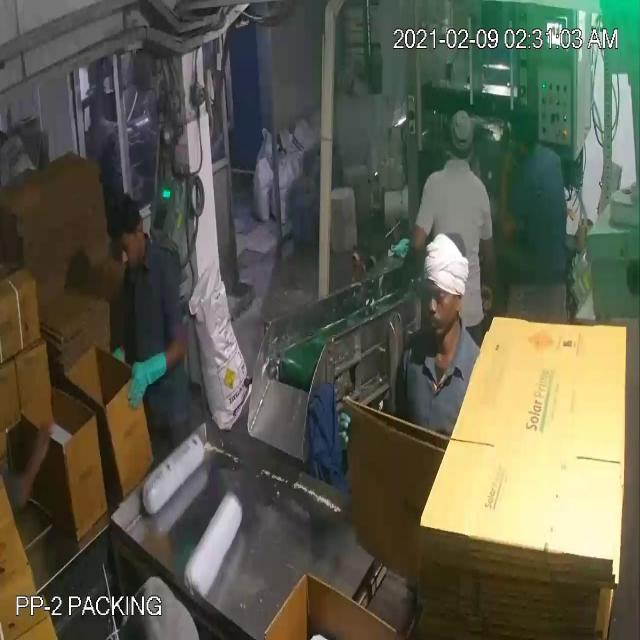No_Gloves: (31, 66, 511, 462)
